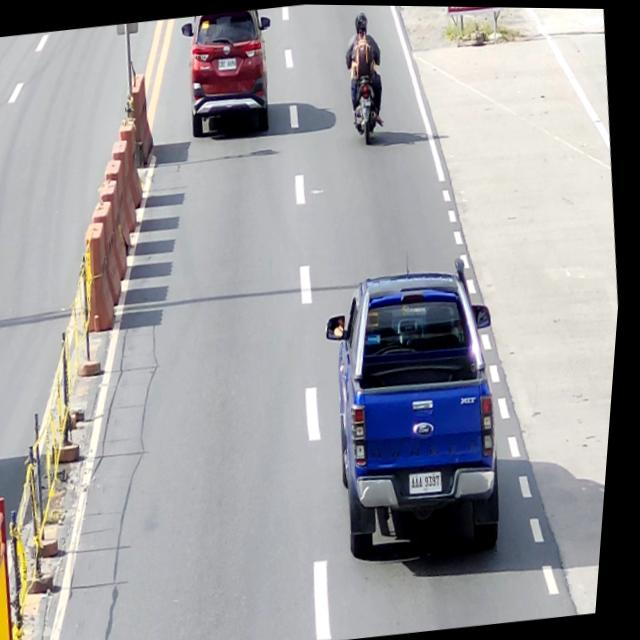Car: (310, 252, 528, 564), (173, 7, 285, 140)
License-Plate: (413, 465, 452, 495), (214, 51, 241, 74), (360, 93, 374, 109)
Motorcycle: (345, 64, 389, 145)
